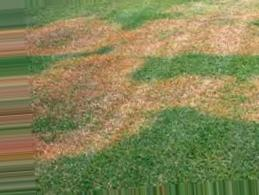patch: (151, 86, 253, 111), (67, 68, 109, 122), (148, 32, 238, 52), (39, 26, 100, 47), (41, 134, 97, 153)
